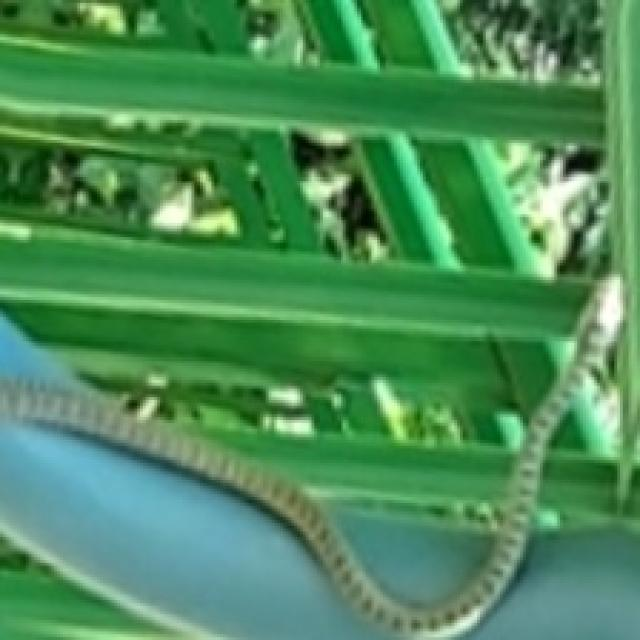paradise tree snake: (0, 0, 637, 634), (0, 274, 620, 637)
